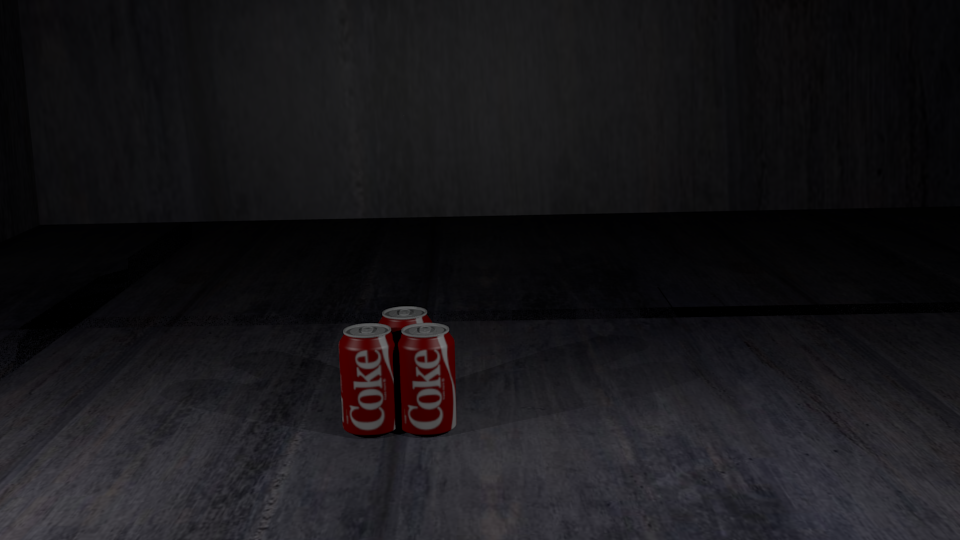cola_can: (339, 324, 397, 432), (397, 323, 455, 431), (378, 307, 431, 409)
